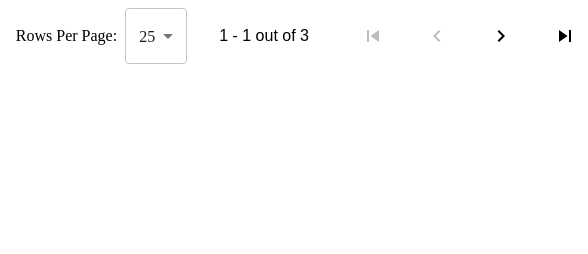
Pagination › has a functioning select
This screenshot has width=588, height=254.
Press the mouse on the dropdown "25" at point(147, 36), box left=139, top=28, right=155, bottom=44
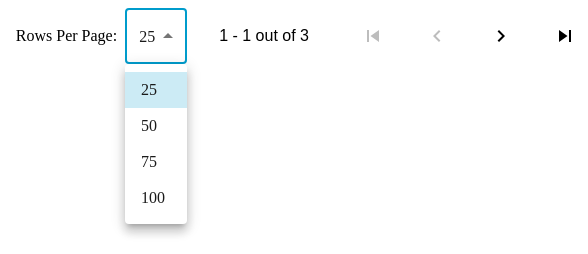
Click the option "50" at point(149, 126), box left=141, top=117, right=157, bottom=134
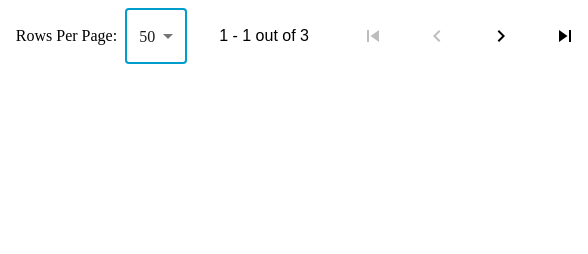
Expected: the dropdown "25" reads "50", left=139, top=28, right=155, bottom=44
